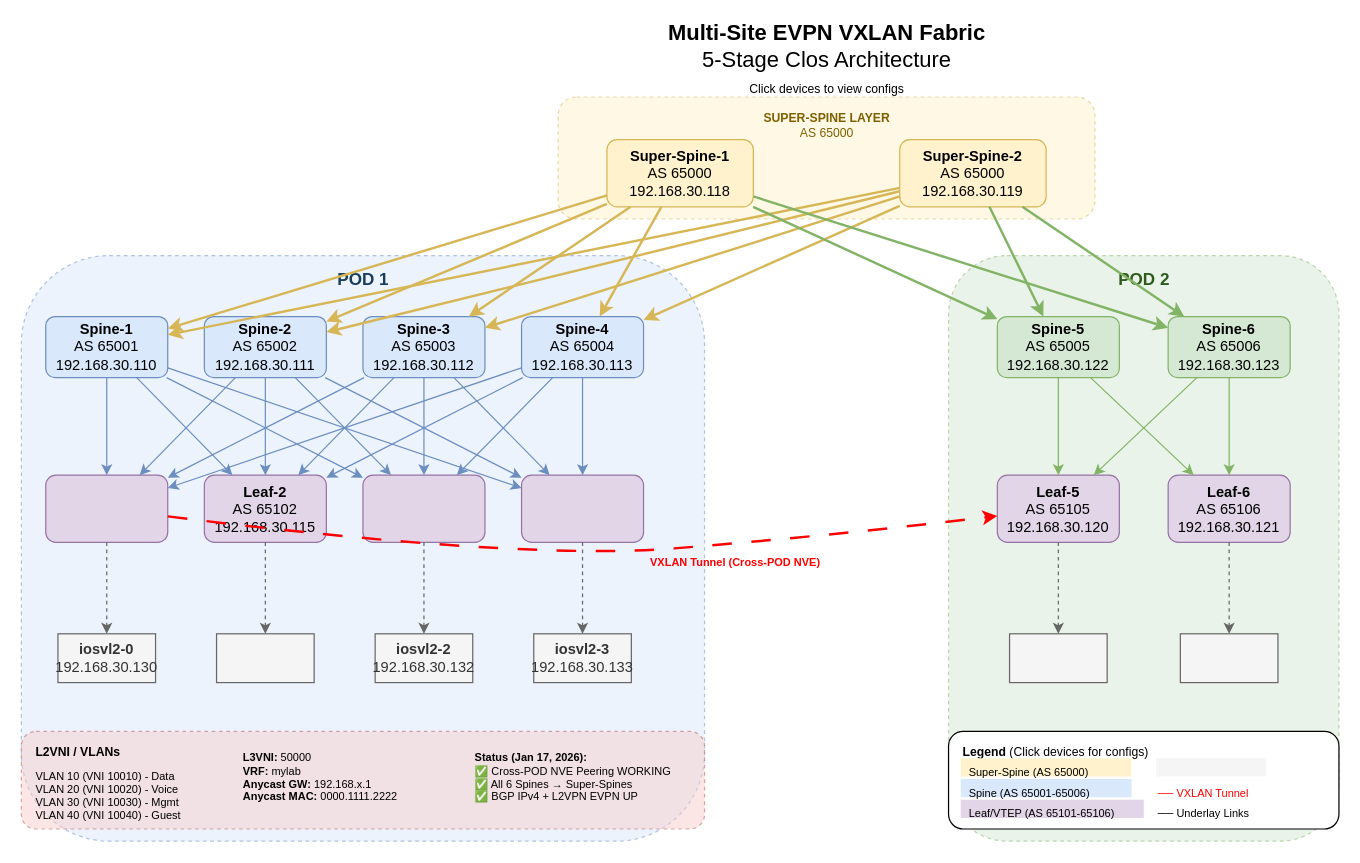
Some shapes in this 1360 by 863 pixel diagram are drawn without their labels. Here are the shapes that lost their labels. From the top down, the centre of each, then its label:
At (106,508): "Leaf-1 AS 65101 192.168.30.114".
At (423,508): "Leaf-3 AS 65103 192.168.30.116".
At (582,508): "Leaf-4 AS 65104 192.168.30.117".
At (264,658): "iosvl2-1 192.168.30.131".
At (1057,658): "iosvl2-4 192.168.30.134".
At (1228,658): "iosvl2-5 192.168.30.135".
At (1210,767): "IOSvL2 Access".
